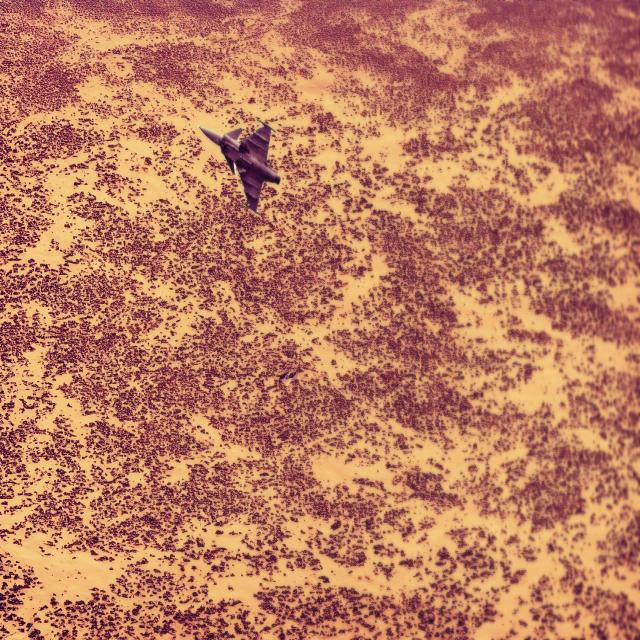airplane: (198, 118, 280, 214)
